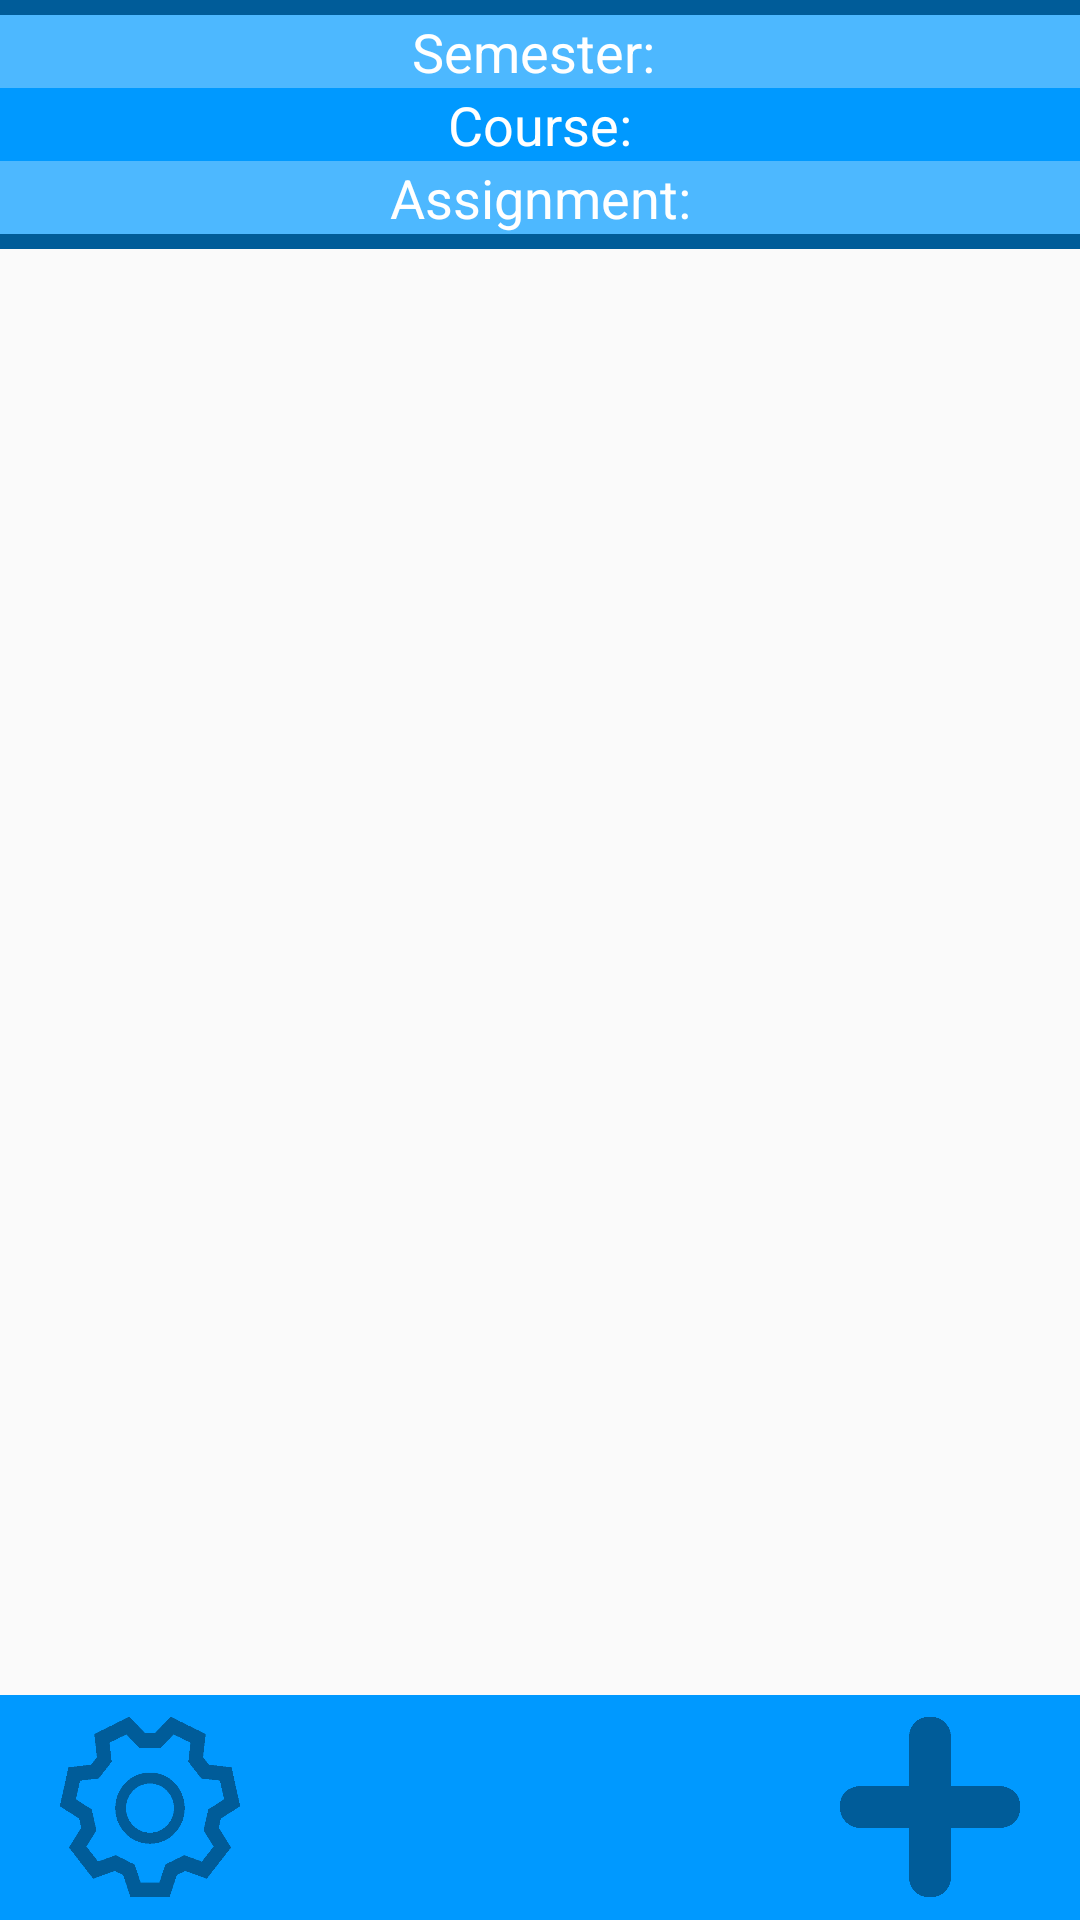

Point at icon controls on the screen. Image size 1080w x 1920h, points as (x,y).
coloredgear: (150,1807)
coloredplus: (930,1807)
